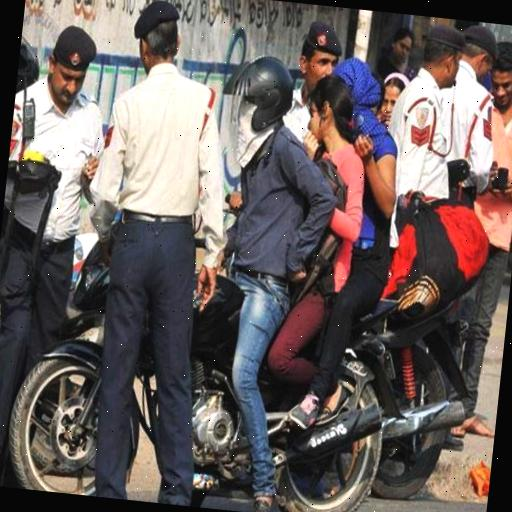helmet: (206, 44, 306, 175)
triple riding: (13, 30, 420, 512)
